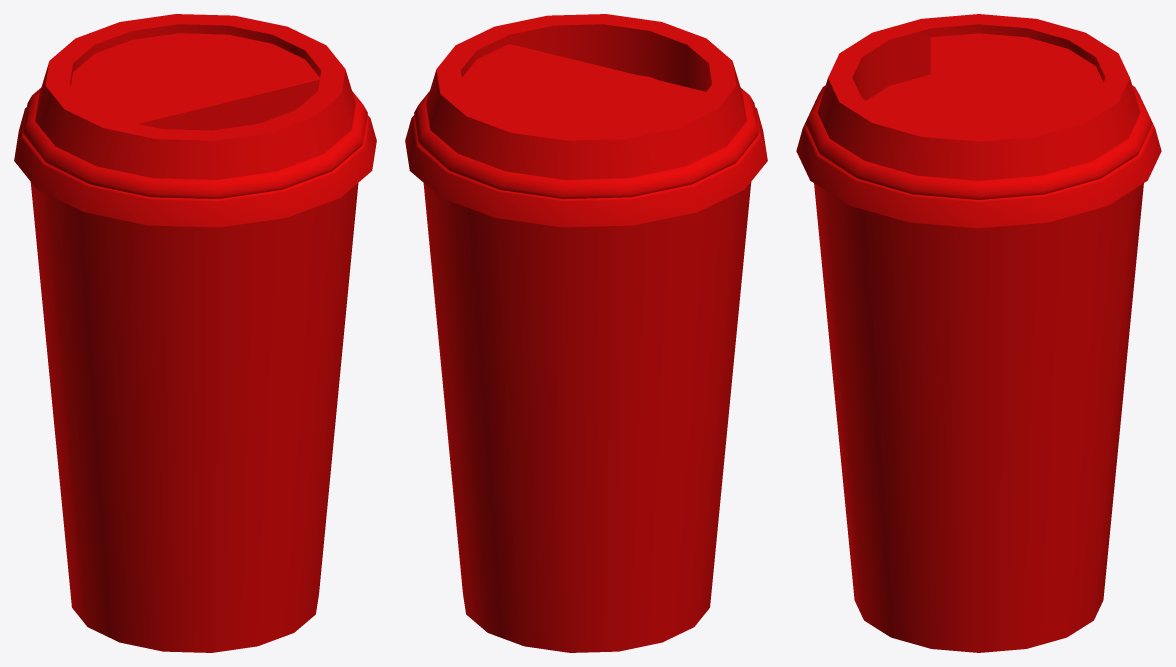
Rendered from coffee.fbx.
The picture shows the model from 3 angles, left to right: view 1: azimuth 30°, elevation 25°; view 2: azimuth 150°, elevation 25°; view 3: azimuth 270°, elevation 25°; orthographic projection.
Visible parts, largest first — view 1: pCylinder4; view 2: pCylinder4; view 3: pCylinder4.
Boxes of the visible parts, x1,y1,x2,y2 form: pCylinder4: (14,14,376,652); pCylinder4: (405,14,767,652); pCylinder4: (796,14,1161,652).
Size of the model in its own units: 8.81 by 13.9 by 8.81.
